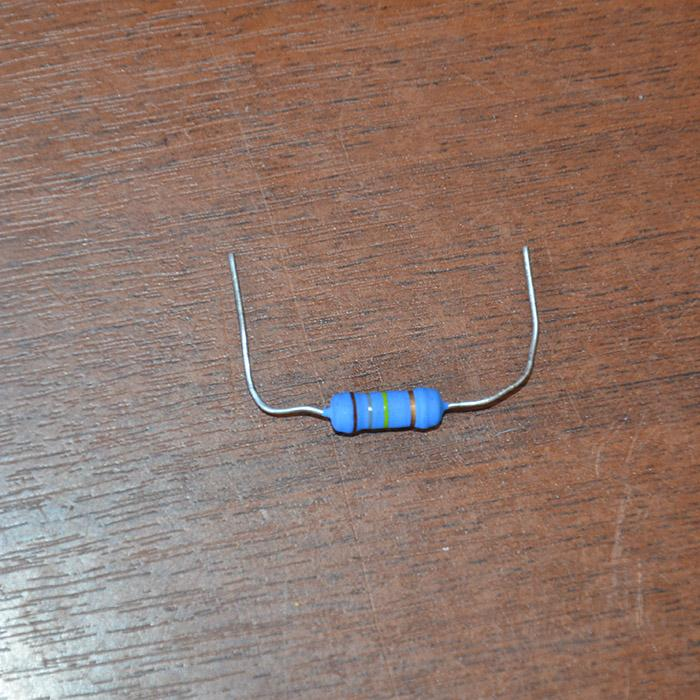resistor: (325, 386, 444, 435)
